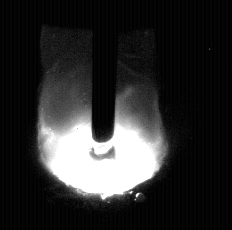arame: (92, 0, 116, 142)
poca: (37, 0, 170, 230)
